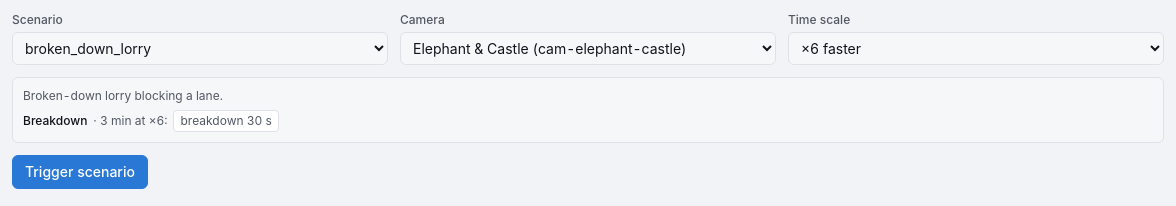
Scenario: ScenarioTriggerForm › disables the button while the request is in flight
Click the button "Trigger scenario" at (80, 172), box [12, 155, 148, 189]
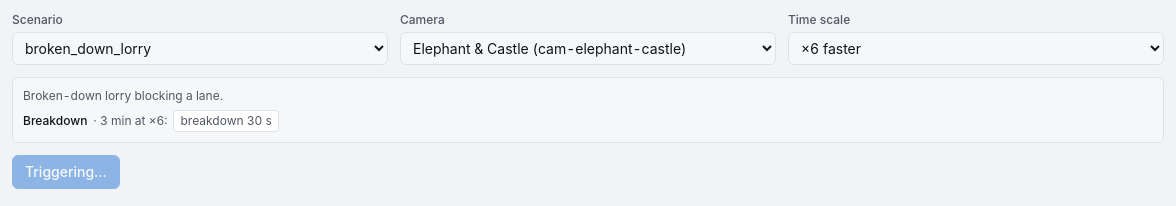
Result: the button "Triggering…" is disabled
Click the button "Triggering…" at (66, 172), box [12, 155, 120, 189]
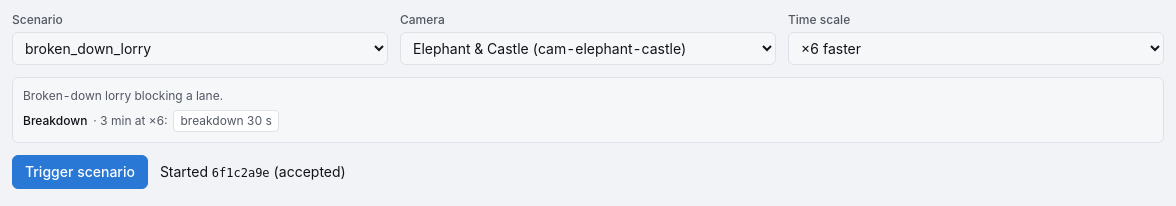
Result: the button "Trigger scenario" is enabled at [12, 155, 148, 189]
